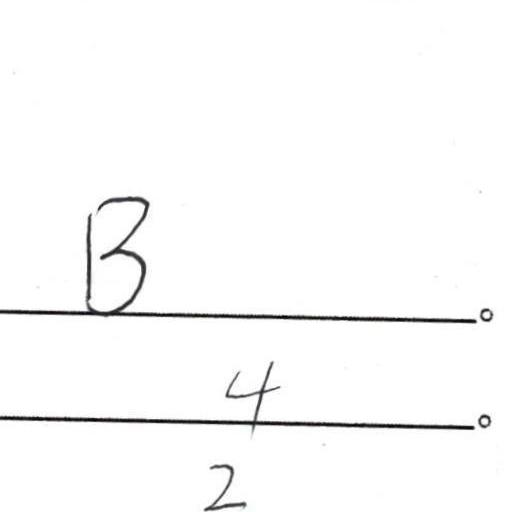ans: (74, 188, 152, 317), (217, 355, 281, 433), (196, 455, 246, 512)
